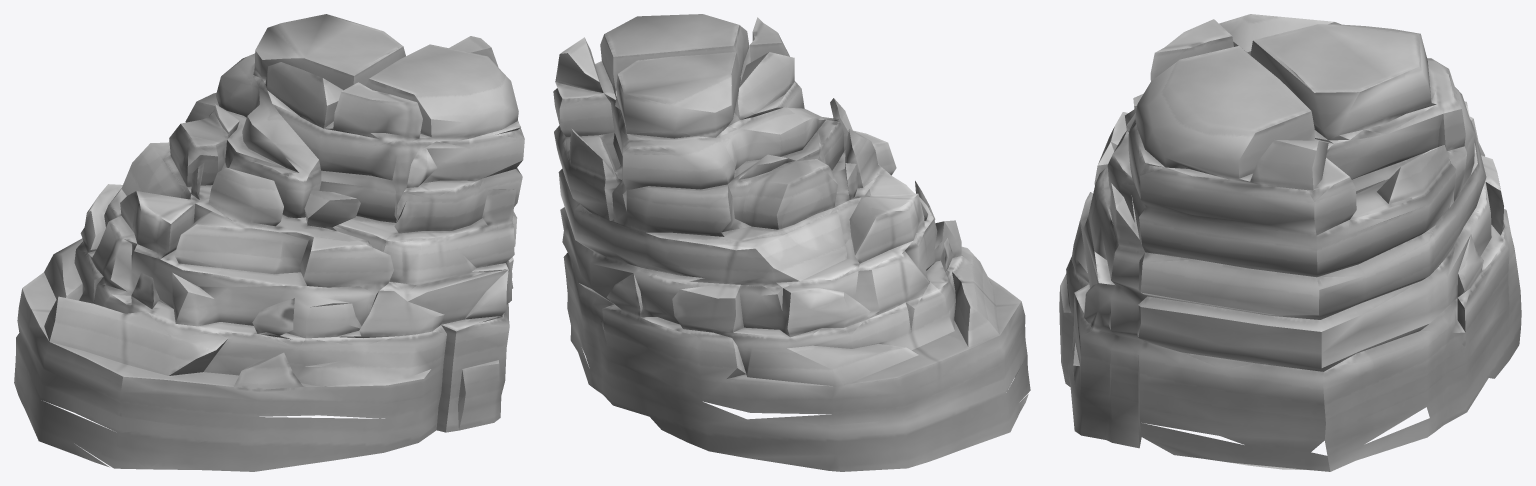
File: sculpted_outcrop_01.glb
The picture shows the model from 3 angles, left to right: view 1: azimuth 30°, elevation 25°; view 2: azimuth 150°, elevation 25°; view 3: azimuth 270°, elevation 25°; orthographic projection. The views are drawn at different scales.
Parts seen in each view (by area): view 1: sculpted_outcrop_01; view 2: sculpted_outcrop_01; view 3: sculpted_outcrop_01.
Boxes of the visible parts, left/top/right/bottom form: sculpted_outcrop_01: left=14, top=14, right=524, bottom=471; sculpted_outcrop_01: left=553, top=14, right=1030, bottom=471; sculpted_outcrop_01: left=1059, top=14, right=1521, bottom=471.
Size of the model in its own units: 8.87 by 5.77 by 6.66.
Materials: 1 (1 with a texture image).
